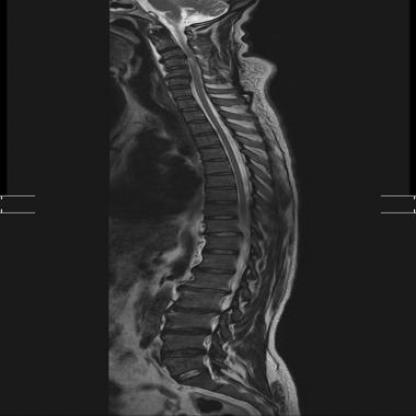Annular Tearrotation: (157, 345, 208, 362)
Disc Bulgerotation: (159, 323, 211, 340), (157, 345, 208, 362), (169, 303, 220, 318)
Disc Protrusionrotation: (179, 282, 227, 296), (158, 53, 185, 64)
